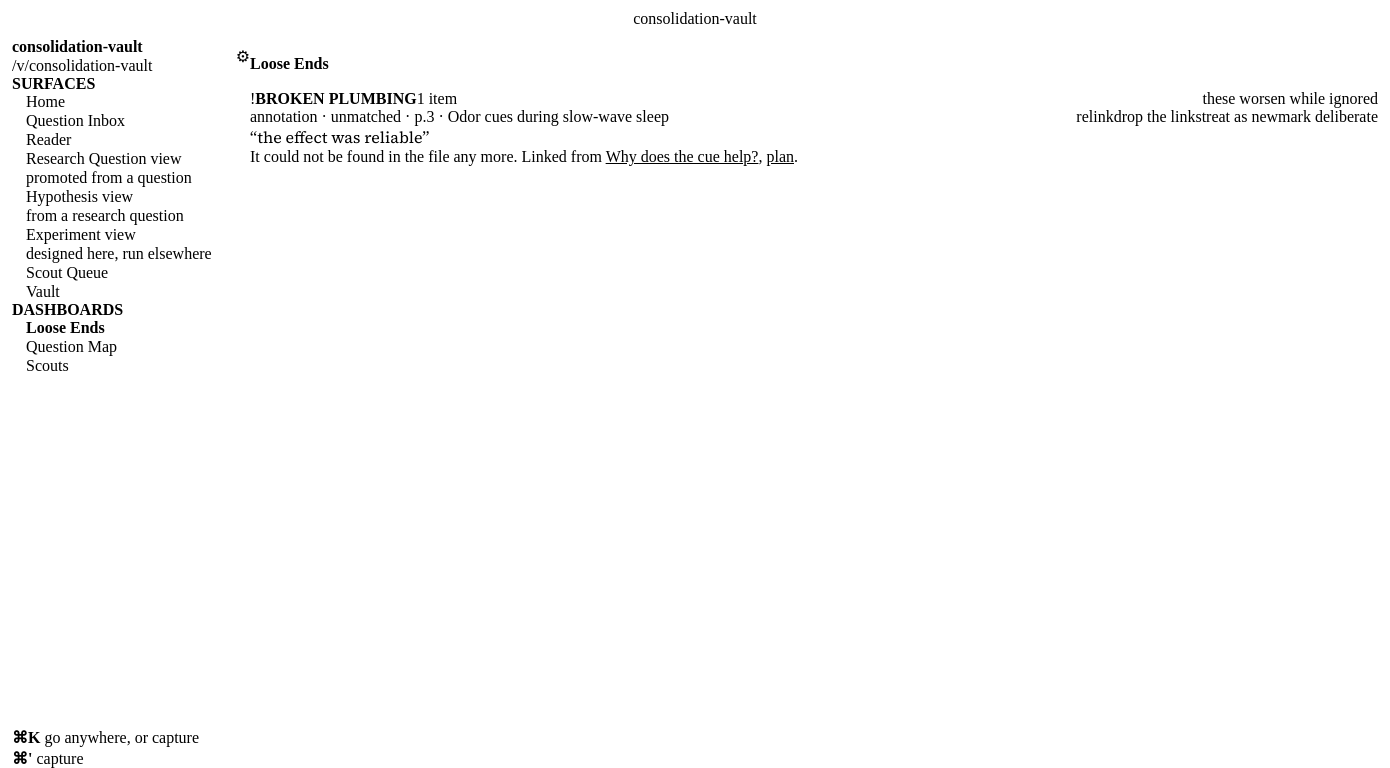
Test: an Unmatched annotation row › shows a refusal as a line on its row and keeps the choices
Click the button "drop the links": (1158, 117) [1114,108,1202,126]
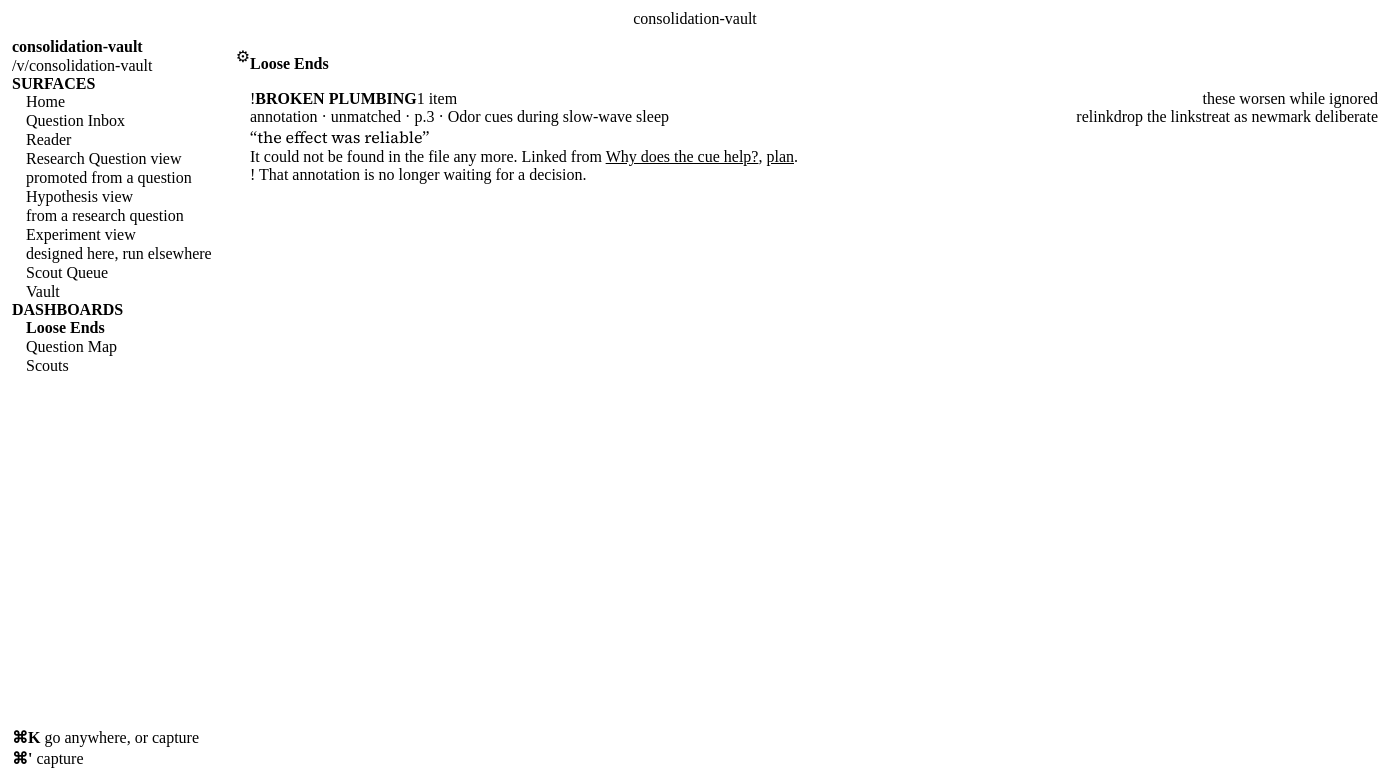
Expected: the message shows "no longer waiting", [259,166,586,183]
